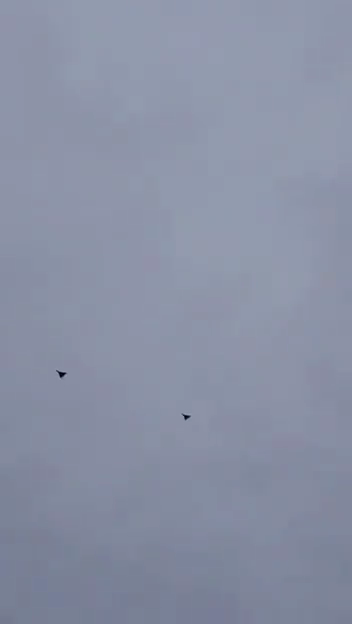shahed: (179, 410, 193, 423), (54, 368, 68, 380)
